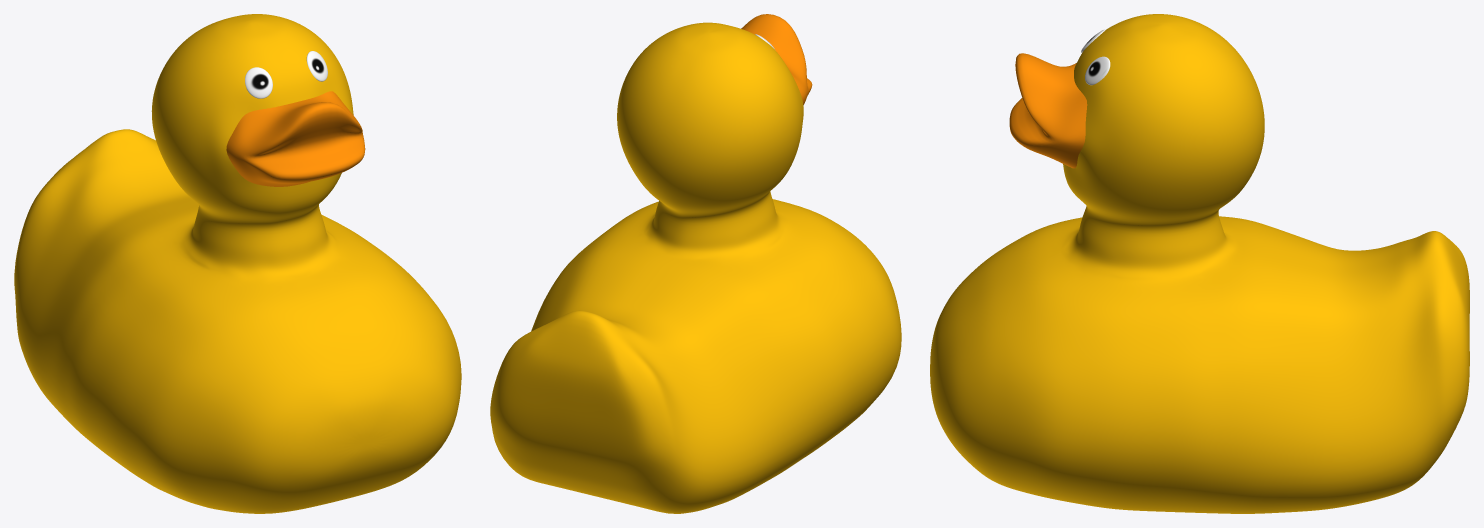
3 renders of one model, left to right at view 1: azimuth 30°, elevation 25°; view 2: azimuth 150°, elevation 25°; view 3: azimuth 270°, elevation 25°, orthographic. The views are drawn at different scales.
Visible parts, largest first — view 1: Duck, Duck.001, Sphere; view 2: Duck, Duck.001; view 3: Duck, Duck.001, Sphere.
Part boxes in pixels (x1=…): Duck: x1=14, y1=14, x2=461, y2=513; Duck.001: x1=226, y1=91, x2=365, y2=186; Sphere: x1=245, y1=51, x2=327, y2=98; Duck: x1=490, y1=22, x2=901, y2=513; Duck.001: x1=741, y1=14, x2=812, y2=105; Duck: x1=930, y1=14, x2=1469, y2=513; Duck.001: x1=1009, y1=53, x2=1087, y2=168; Sphere: x1=1081, y1=29, x2=1110, y2=85.
Bounding box in the file's own units: 127 × 163 × 179.
3 materials, 1 textured.
